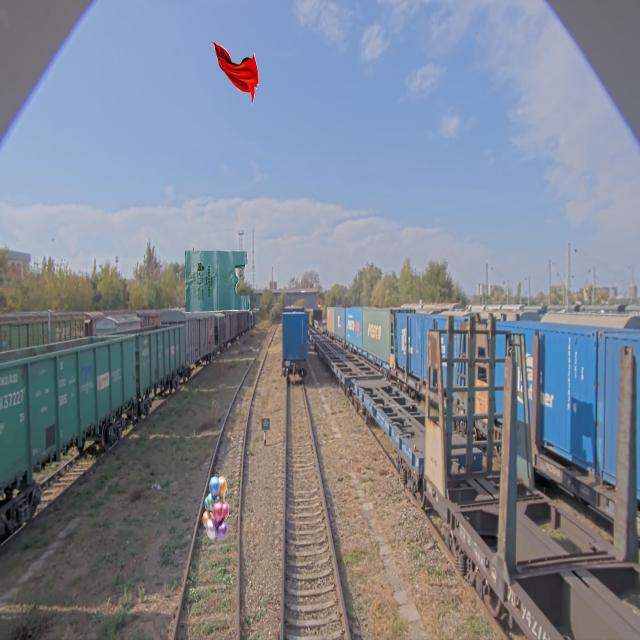balloon: (202, 476, 229, 540)
floating object: (210, 41, 260, 105)
plastic bag: (184, 249, 250, 313)
